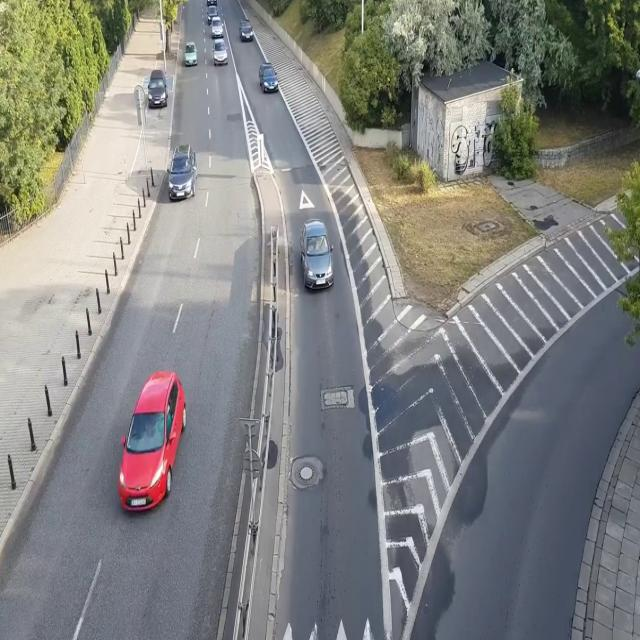car: (118, 373, 186, 513), (299, 220, 335, 294), (168, 142, 198, 200), (147, 69, 168, 108), (258, 63, 278, 93), (212, 38, 229, 66), (239, 19, 254, 42), (185, 42, 198, 68), (210, 17, 223, 38), (207, 6, 220, 26), (206, 0, 217, 7)
